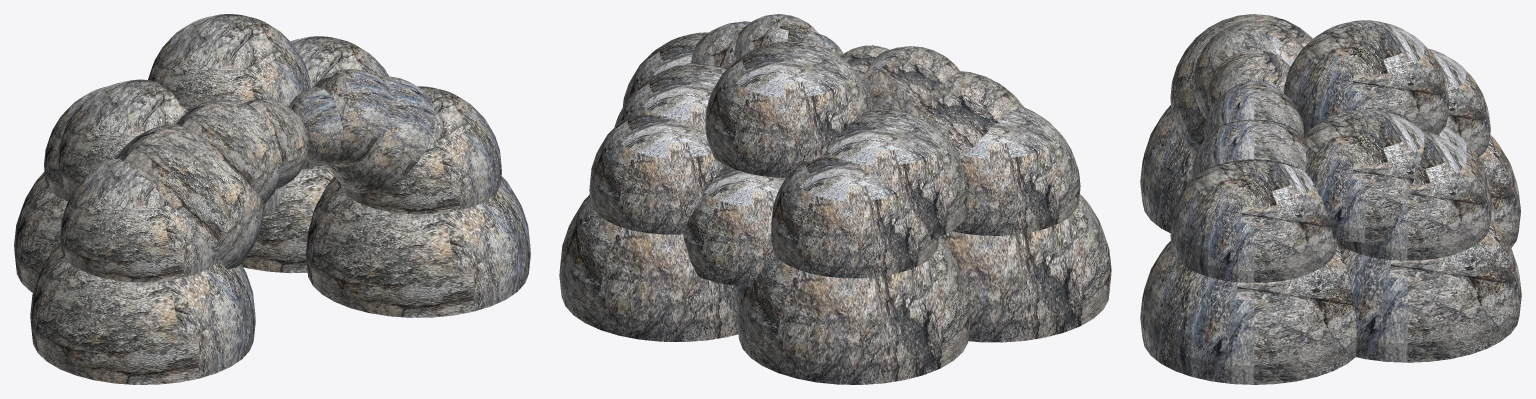
The model's file is rocaaaaaa.fbx.
The picture shows the model from 3 angles, left to right: view 1: azimuth 30°, elevation 25°; view 2: azimuth 150°, elevation 25°; view 3: azimuth 270°, elevation 25°; orthographic projection. The views are drawn at different scales.
Parts seen in each view (by area): view 1: Sphere.017; view 2: Sphere.017; view 3: Sphere.017.
Part boxes in pixels (x1,y1,x2,y2): Sphere.017: [14, 14, 530, 384]; Sphere.017: [559, 14, 1111, 384]; Sphere.017: [1140, 14, 1521, 384].
Bounding box in the file's own units: 10011 × 4910 × 6965.
